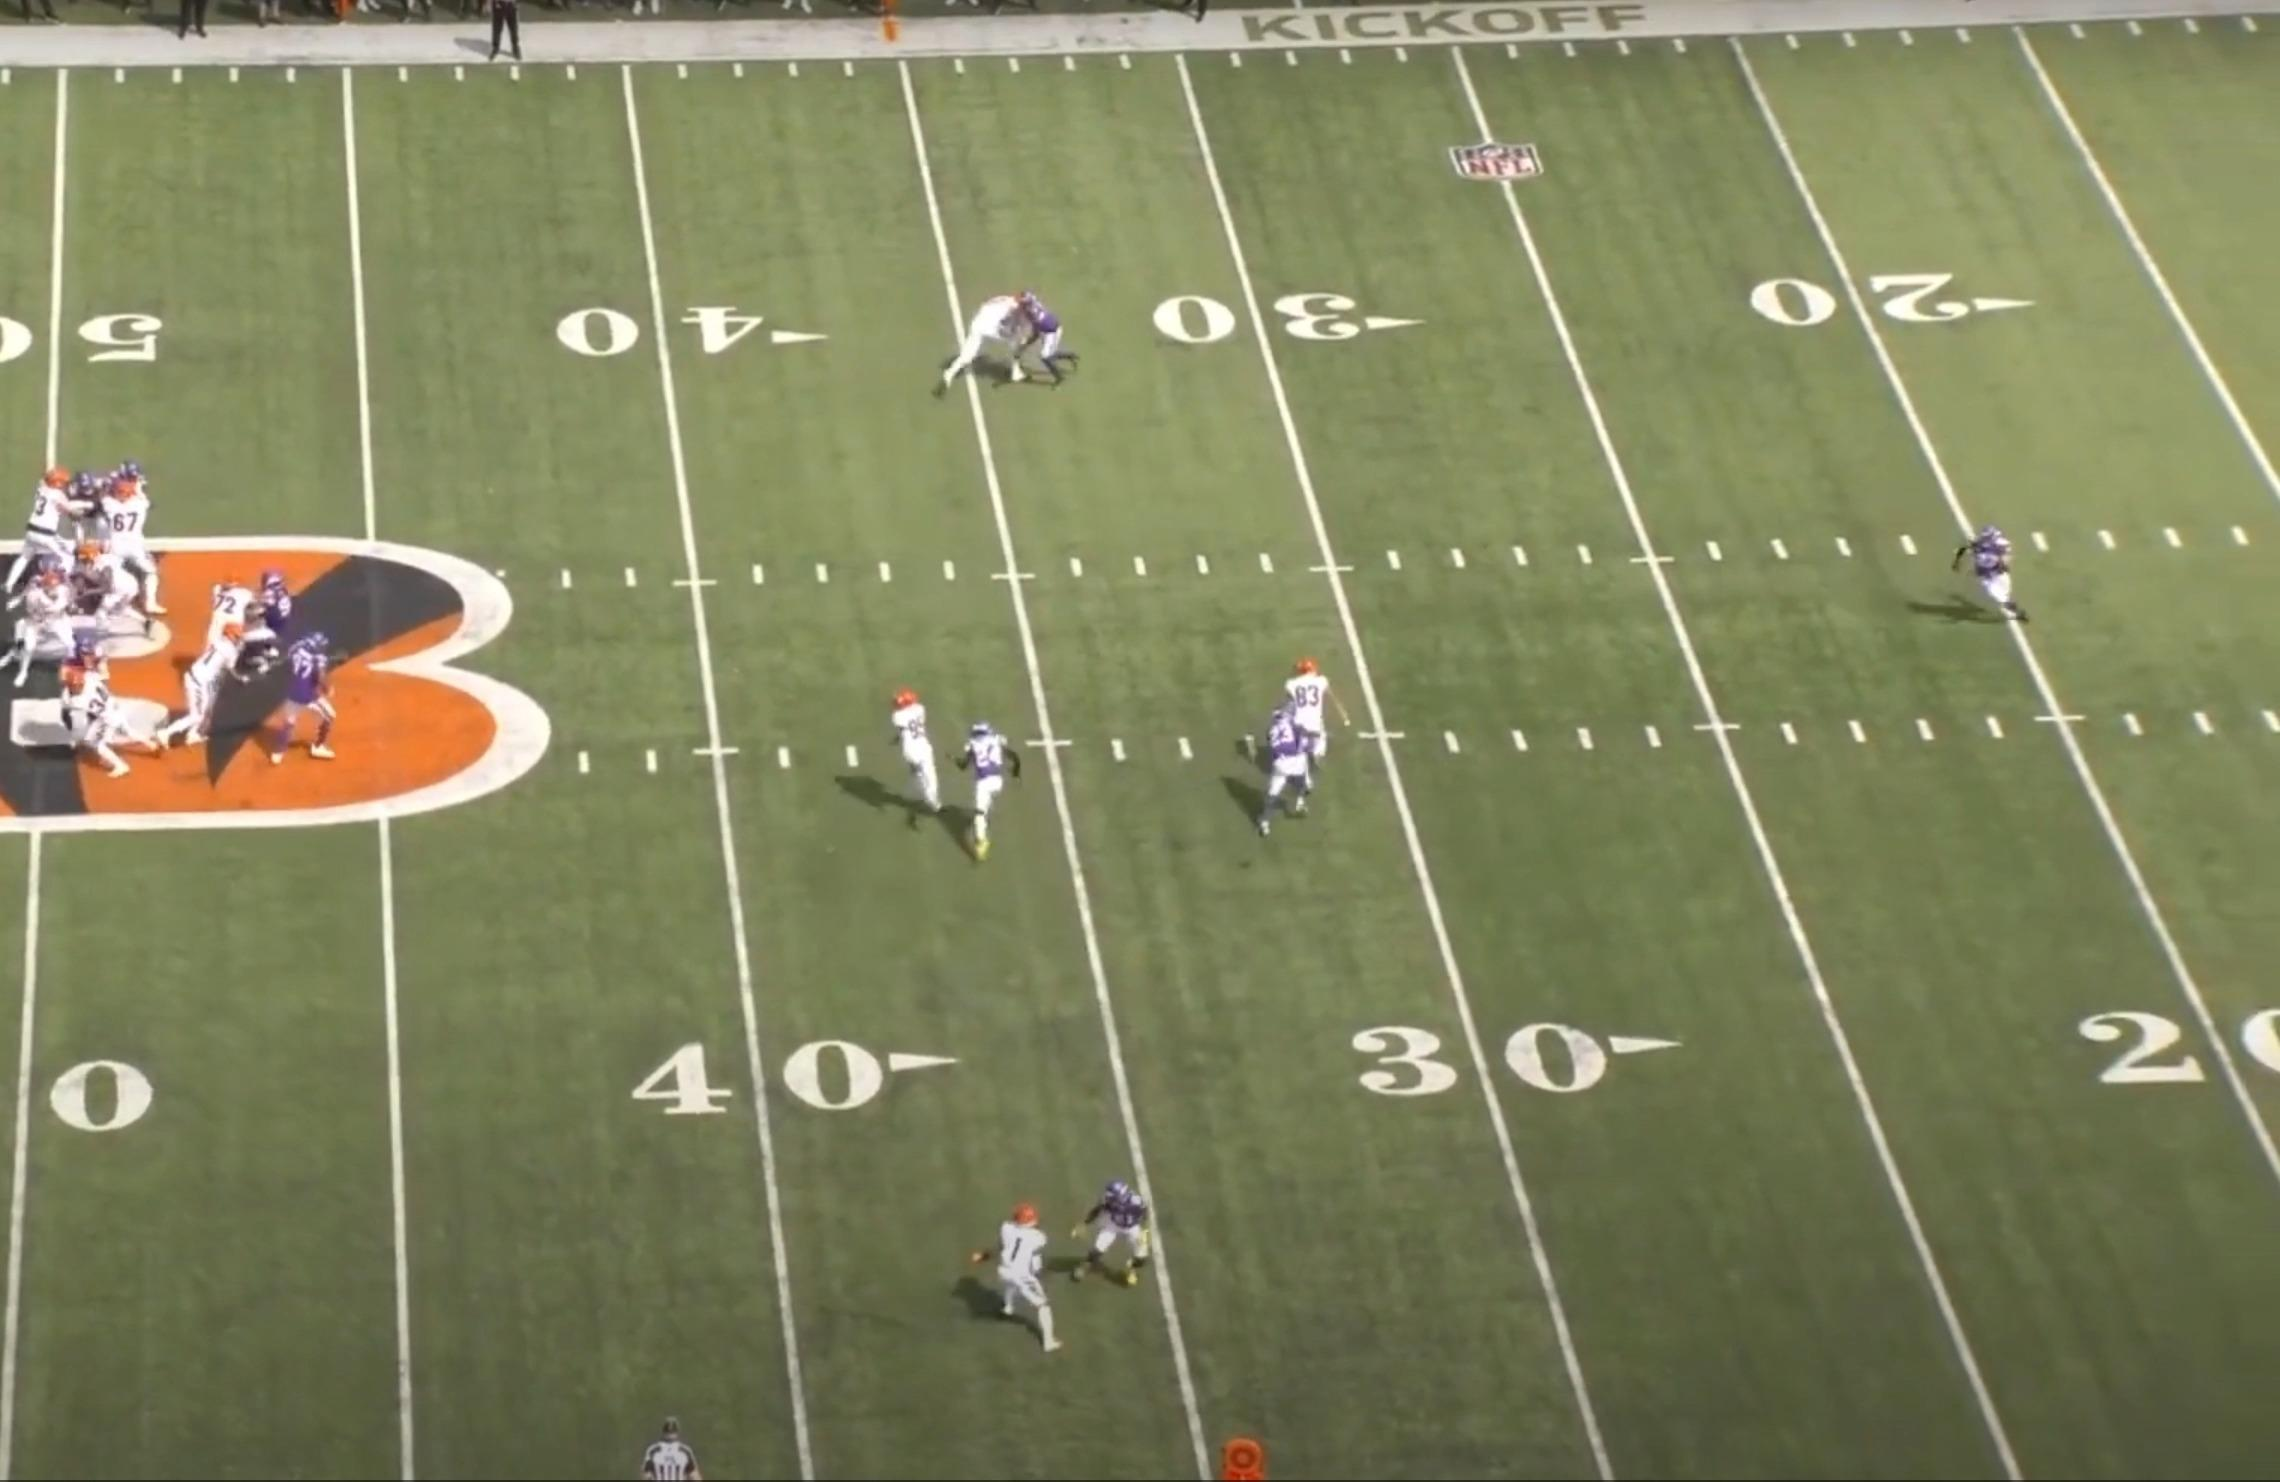defense: (1064, 1169, 1154, 1301), (1249, 706, 1332, 845), (959, 711, 1025, 871), (280, 623, 343, 770), (1957, 524, 2032, 634), (1007, 287, 1082, 394), (243, 571, 299, 694), (67, 471, 106, 536), (99, 457, 154, 501), (68, 633, 112, 675)
oline: (156, 622, 257, 752), (2, 467, 79, 589), (99, 480, 168, 615), (76, 546, 154, 633), (203, 571, 256, 645)
qb: (13, 572, 83, 688)
skill: (981, 1198, 1072, 1364), (884, 679, 956, 841), (936, 290, 1033, 402), (61, 667, 161, 774), (1282, 657, 1360, 751)
